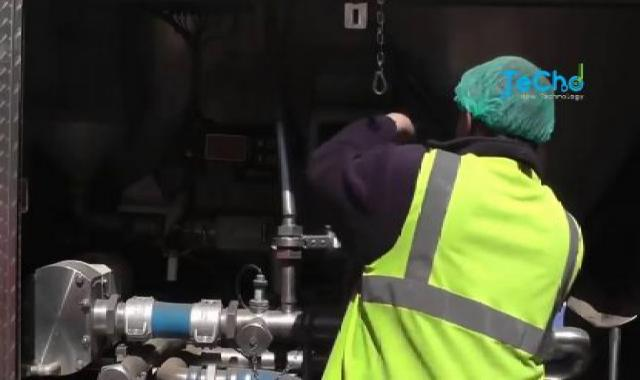hairnet: (435, 49, 561, 146)
